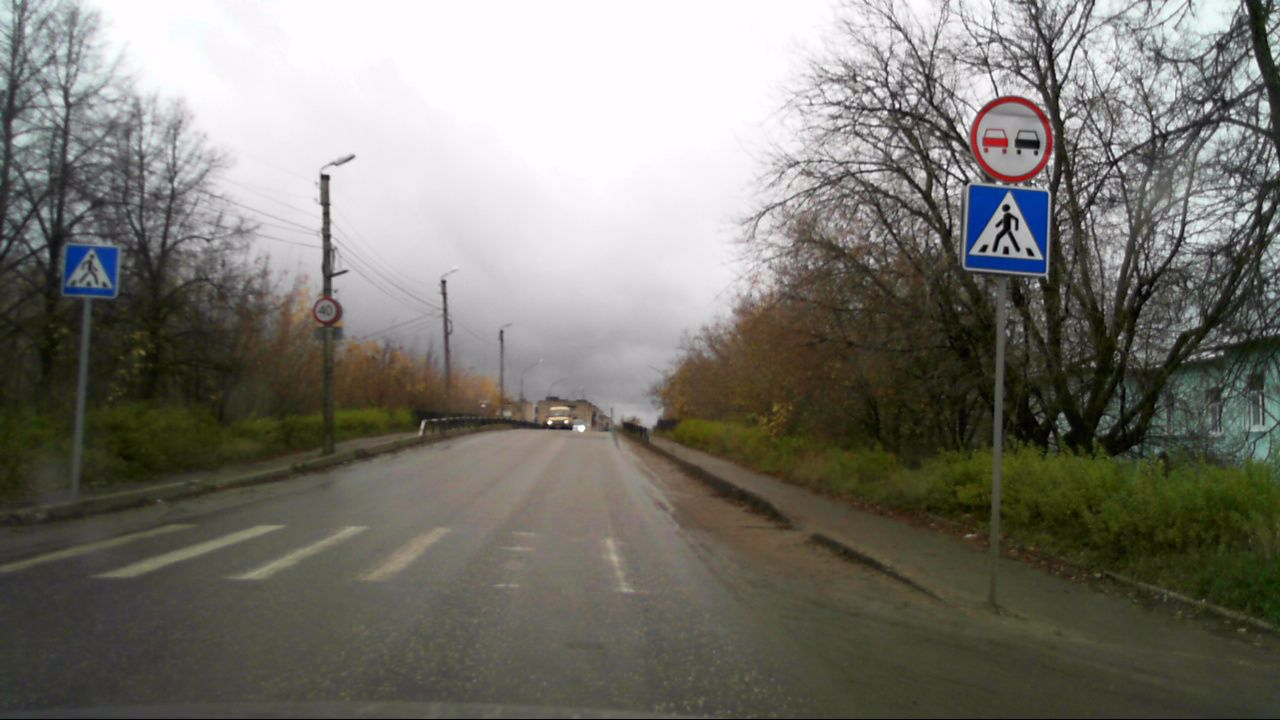speed_warning_40: (312, 296, 342, 324)
